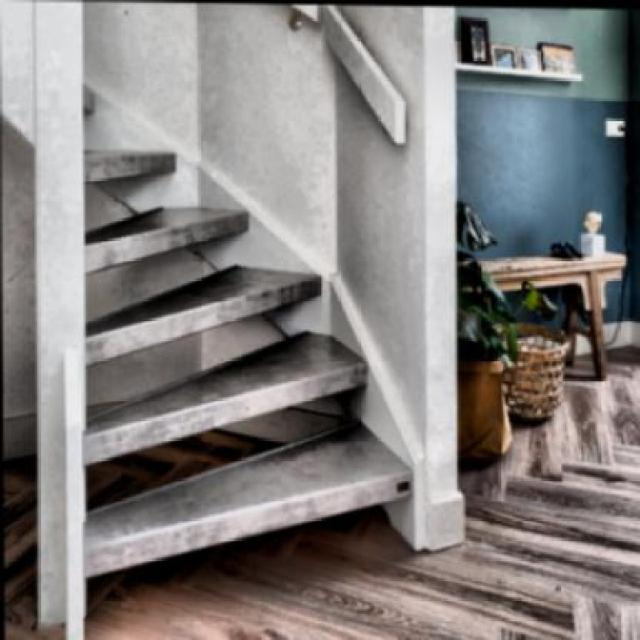stair: (1, 124, 418, 496)
